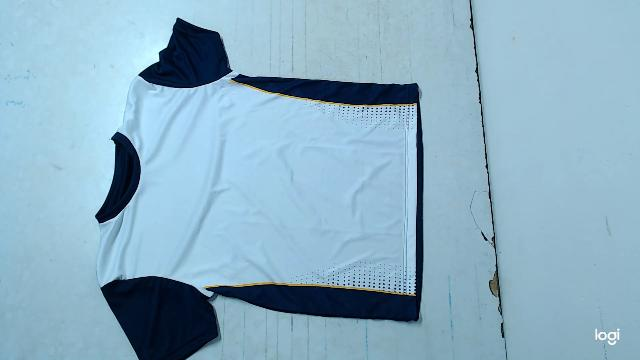new-garment: (96, 18, 423, 360)
